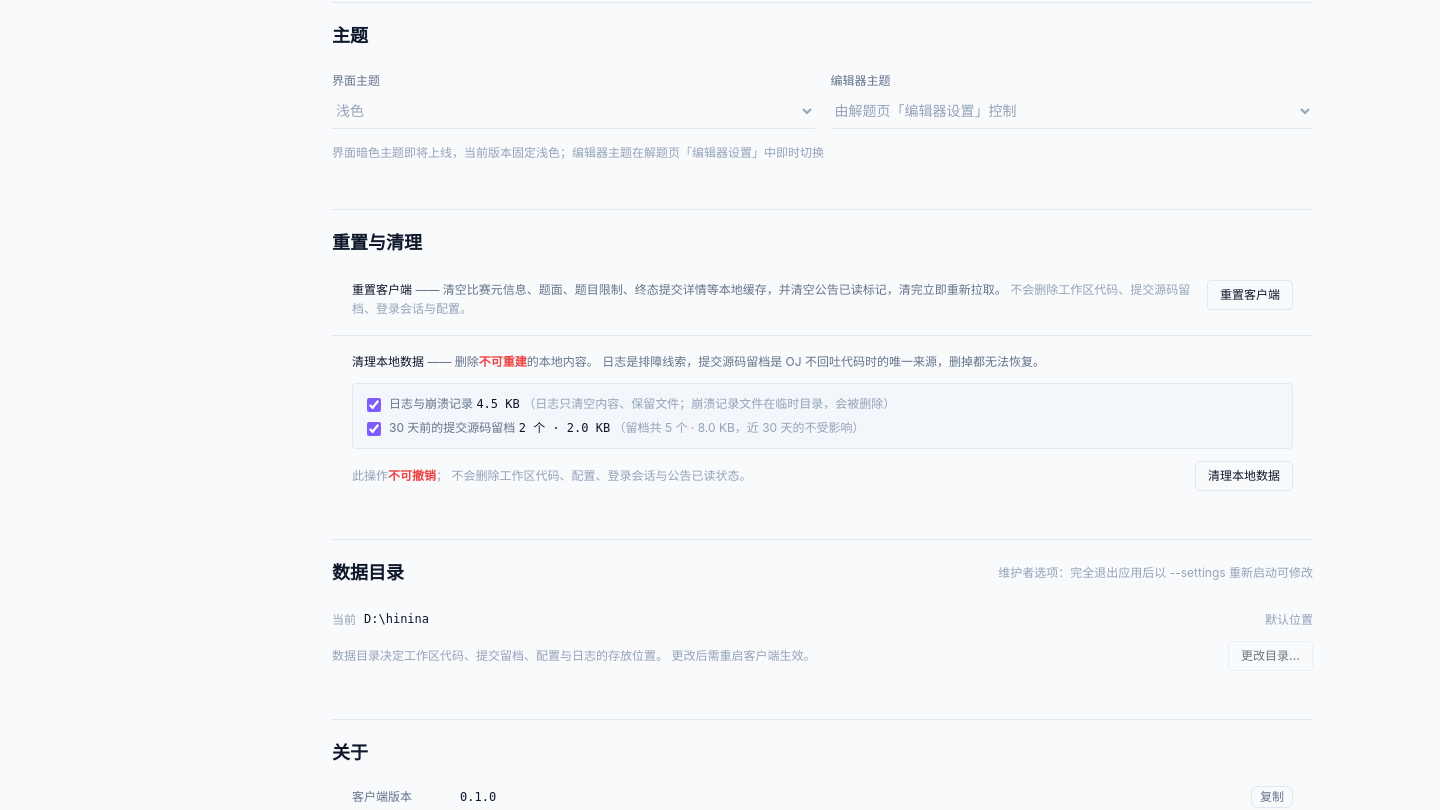
it: SettingsView 清理本地数据（不可逆，反馈必须如实） › 两个勾选全空：不发清理请求，给出「请先选择」错误
(page scrolled)
Expected: the label "日志与崩溃记录 4.5 KB （日志只清空内容、保留文件；崩溃记录文件在临时目录，会被删除）" is shown, [367, 396, 895, 412]
Click the checkbox labelled "日志与崩溃记录 4.5 KB （日志只清空内容、保留文件；崩溃记录文件在临时目录，会被删除）".
click(374, 405)  # box [367, 398, 381, 412]
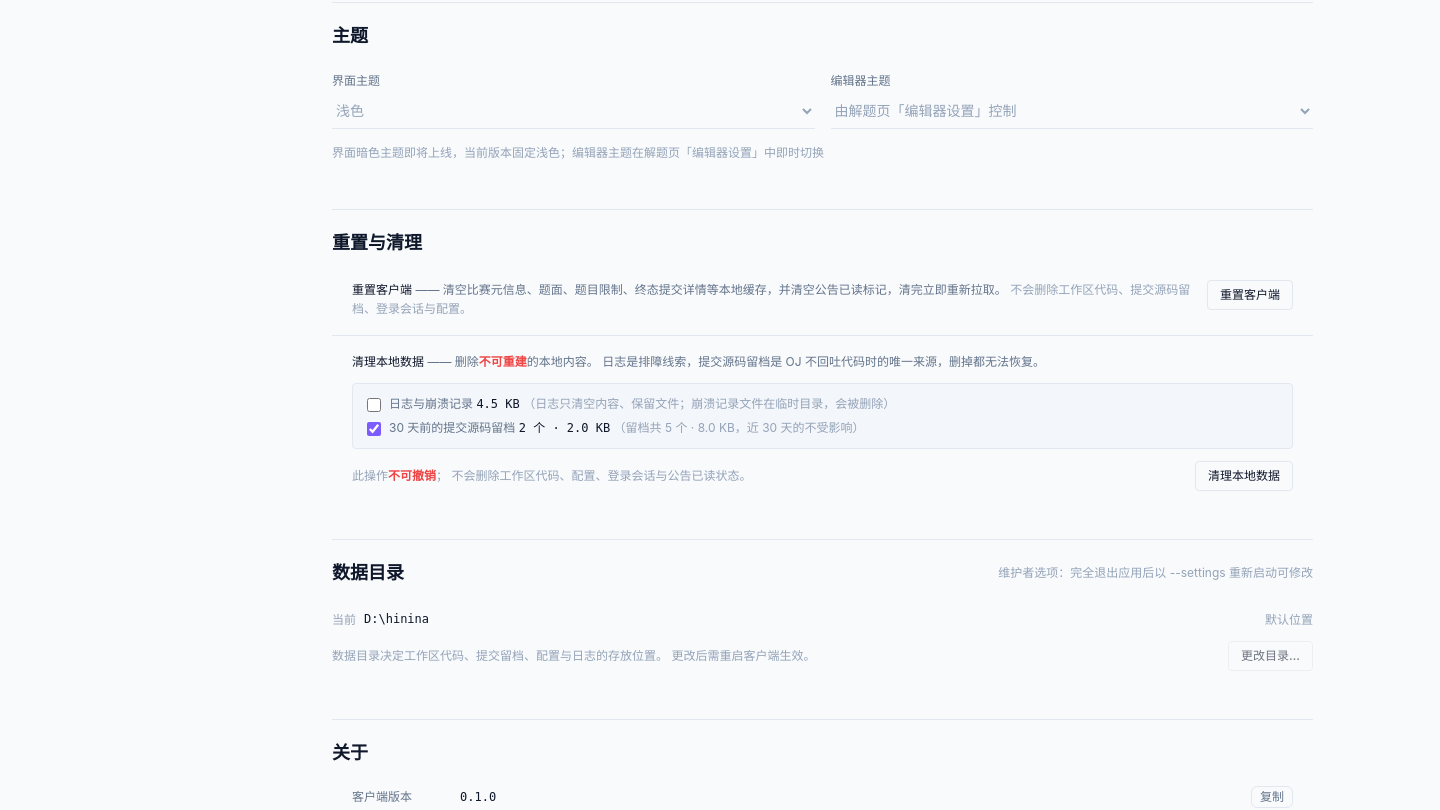
Expected: the label "30 天前的提交源码留档 2 个 · 2.0 KB （留档共 5 个 · 8.0 KB，近 30 天的不受影响）" is shown, [367, 420, 865, 436]
Click the checkbox labelled "30 天前的提交源码留档 2 个 · 2.0 KB （留档共 5 个 · 8.0 KB，近 30 天的不受影响）".
click(374, 429)  # box [367, 422, 381, 436]
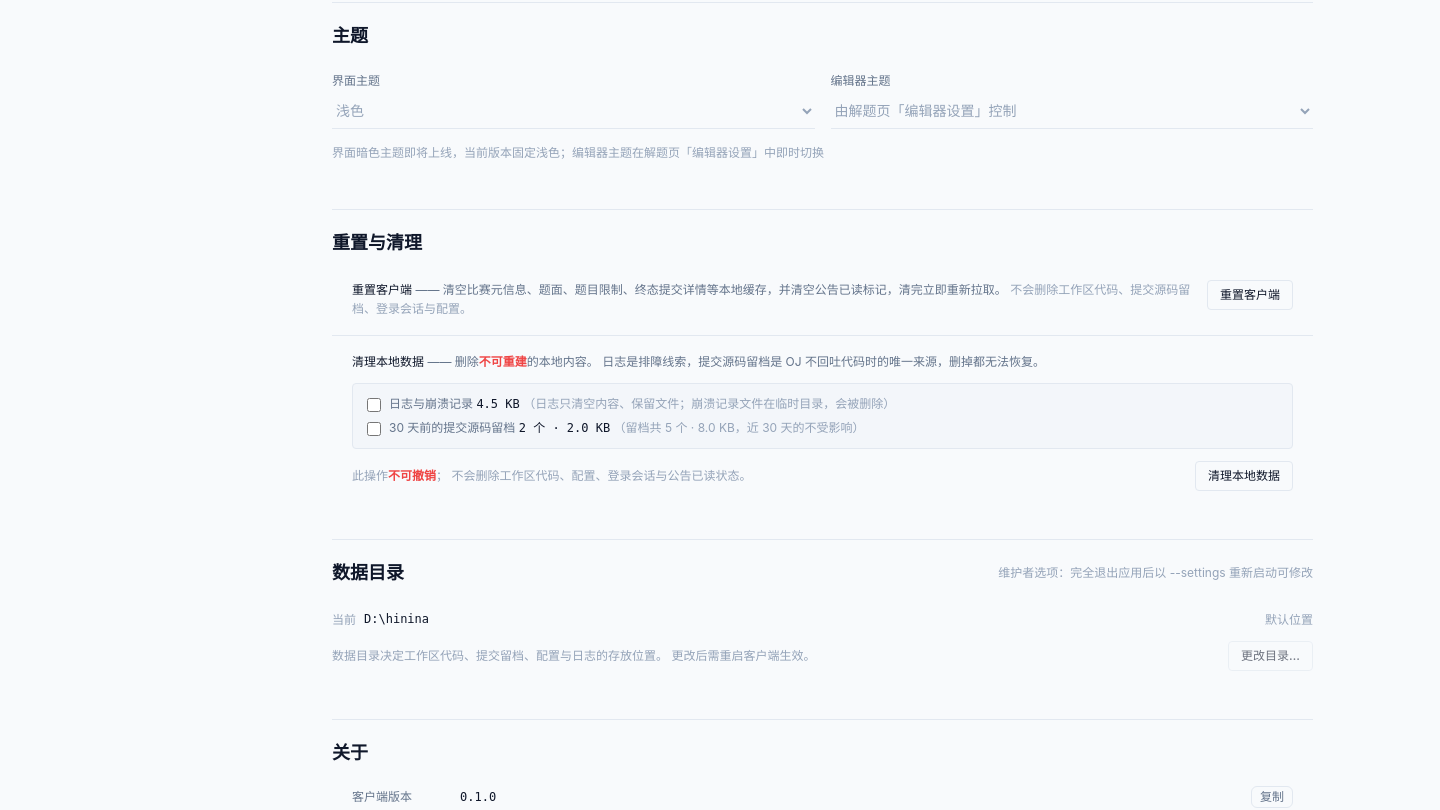
Click the button "清理本地数据".
click(1244, 476)  # box [1195, 461, 1293, 491]
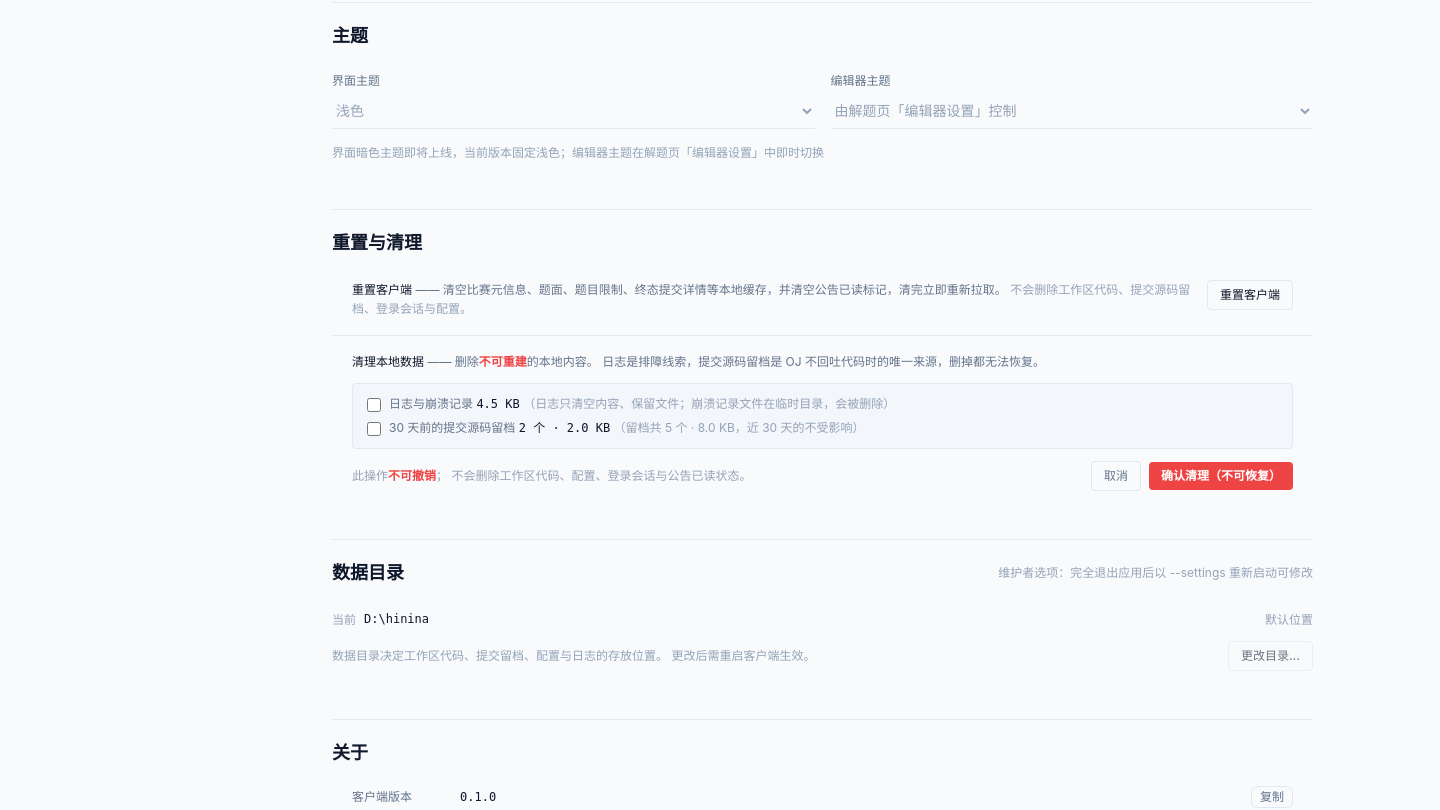
Expected: the button "确认清理（不可恢复）" is shown
Click the button "确认清理（不可恢复）".
click(1221, 476)  # box [1149, 462, 1293, 490]
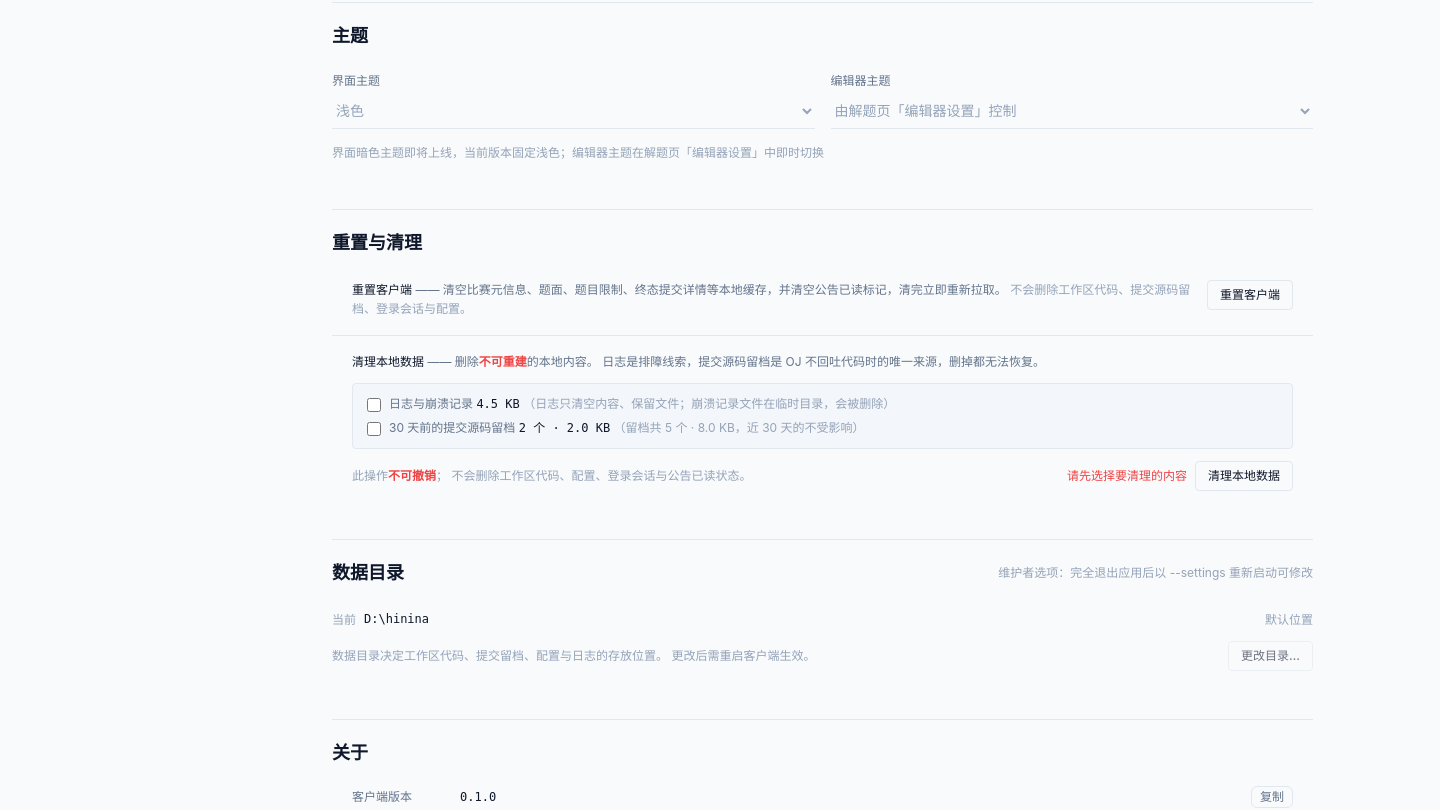
Expected: the text "请先选择要清理的内容" is shown, [1067, 468, 1187, 484]
